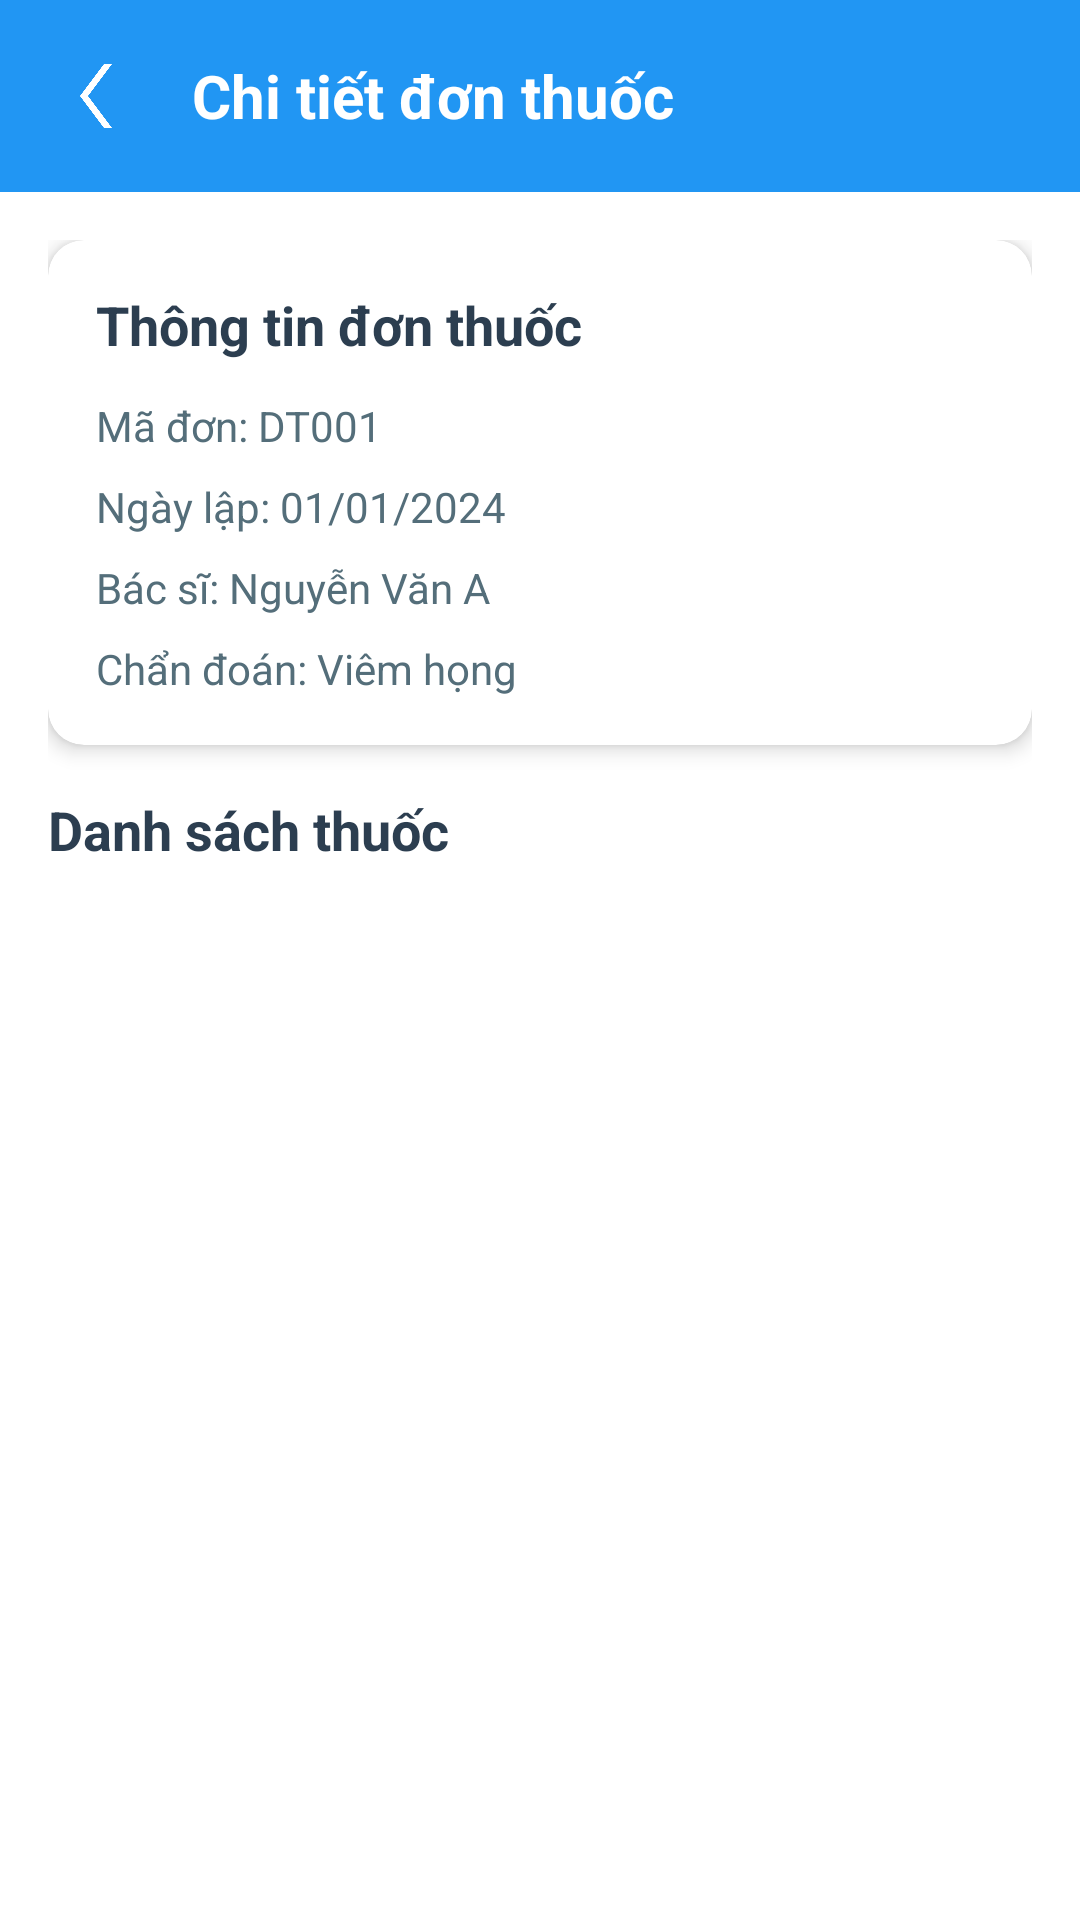

Screen size 1080px×1920px. Icon name, then its center in pixels as (x=x, y=y):
Quay lại: (x=96, y=96)
